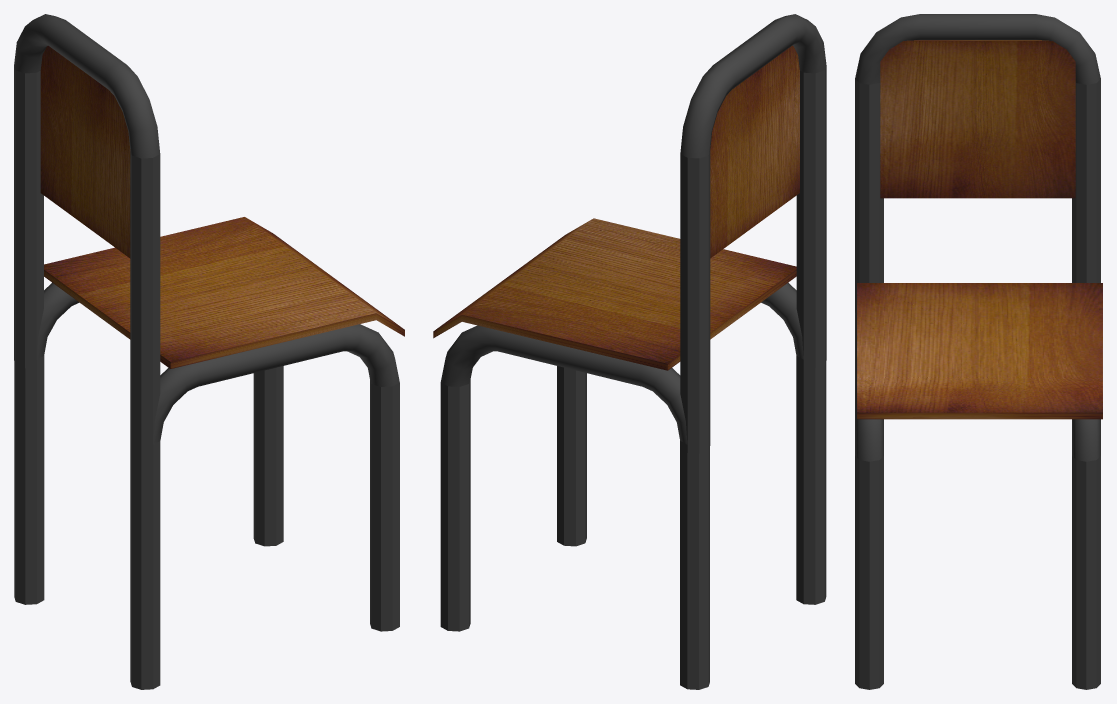
The model's file is chaise_grisse.FBX.
3 renders of one model, left to right at view 1: azimuth 30°, elevation 25°; view 2: azimuth 150°, elevation 25°; view 3: azimuth 270°, elevation 25°, orthographic. The views are drawn at different scales.
Visible parts, largest first — view 1: Torus003, Box012, Torus004, Box013; view 2: Torus003, Box012, Torus004, Box013; view 3: Box012, Box013, Torus004, Torus003.
Boxes of the visible parts, x1,y1,x2,y2 form: Torus003: (14, 282, 399, 689); Box012: (44, 217, 404, 368); Torus004: (14, 14, 160, 453); Box013: (40, 45, 130, 258); Torus003: (440, 282, 826, 689); Box012: (433, 218, 796, 370); Torus004: (680, 14, 826, 453); Box013: (710, 45, 799, 258); Box012: (857, 283, 1102, 419); Box013: (880, 40, 1075, 198); Torus004: (855, 14, 1100, 312); Torus003: (855, 309, 1100, 689).
Size of the model in its own units: 19.85 by 42.74 by 17.14.
Materials: 2 (1 with a texture image).
